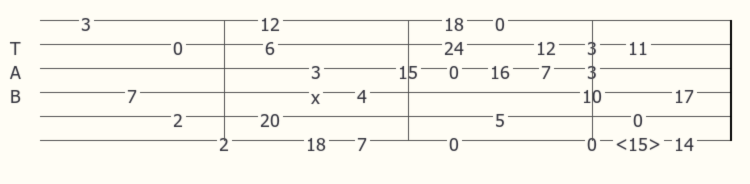0: (173, 36, 187, 53), (449, 60, 463, 77), (449, 132, 463, 149), (495, 12, 509, 29), (587, 132, 601, 149), (633, 108, 647, 125)
10: (582, 84, 606, 101)
11: (628, 36, 652, 53)
12: (260, 12, 284, 29), (536, 36, 560, 53)
14: (674, 132, 698, 149)
15: (398, 60, 422, 77)
16: (490, 60, 514, 77)
17: (674, 84, 698, 101)
18: (306, 132, 330, 149), (444, 12, 468, 29)
2: (173, 108, 187, 125), (219, 132, 233, 149)
20: (260, 108, 284, 125)
24: (444, 36, 468, 53)
3: (81, 12, 95, 29), (311, 60, 325, 77), (587, 60, 601, 77), (587, 36, 601, 53)
4: (357, 84, 371, 101)
5: (495, 108, 509, 125)
6: (265, 36, 279, 53)
7: (127, 84, 141, 101), (357, 132, 371, 149), (541, 60, 555, 77)
harmonic: (615, 132, 665, 149)
x: (311, 85, 324, 99)
